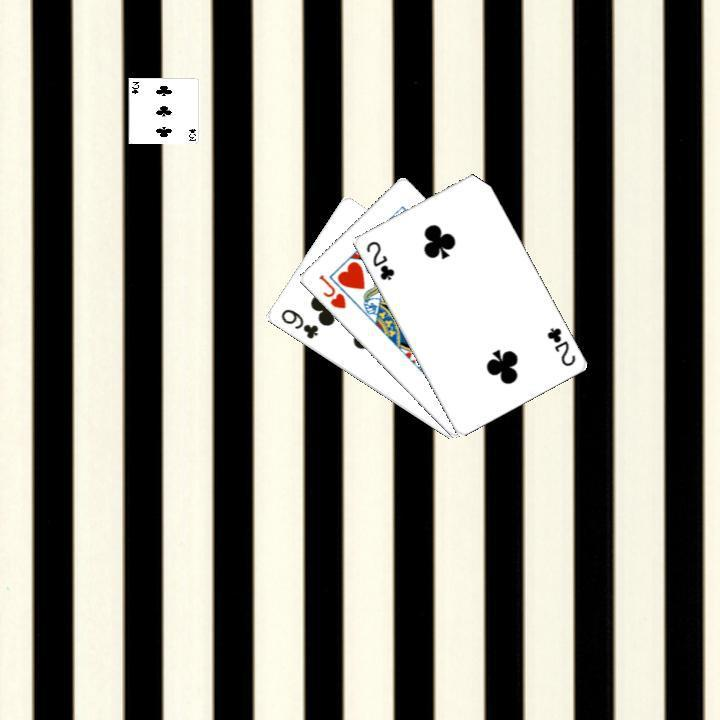2: (361, 236, 396, 282), (542, 323, 577, 368)
9: (276, 304, 320, 341)
J: (314, 270, 348, 311)
